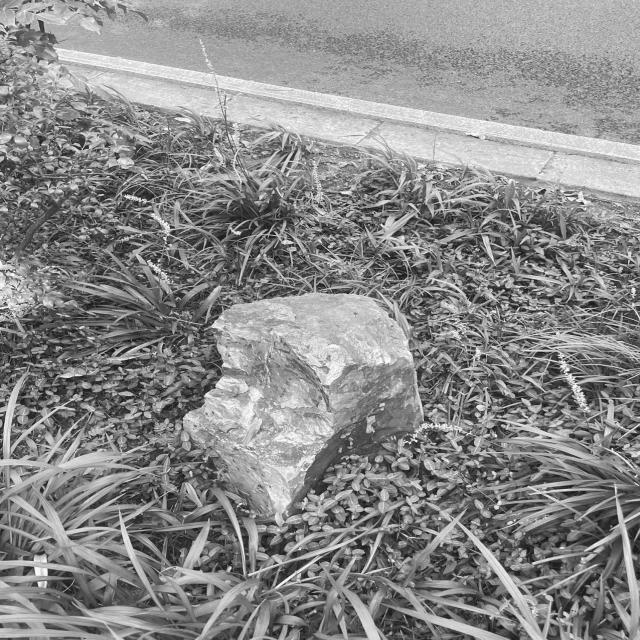Stone: (184, 294, 422, 520)
